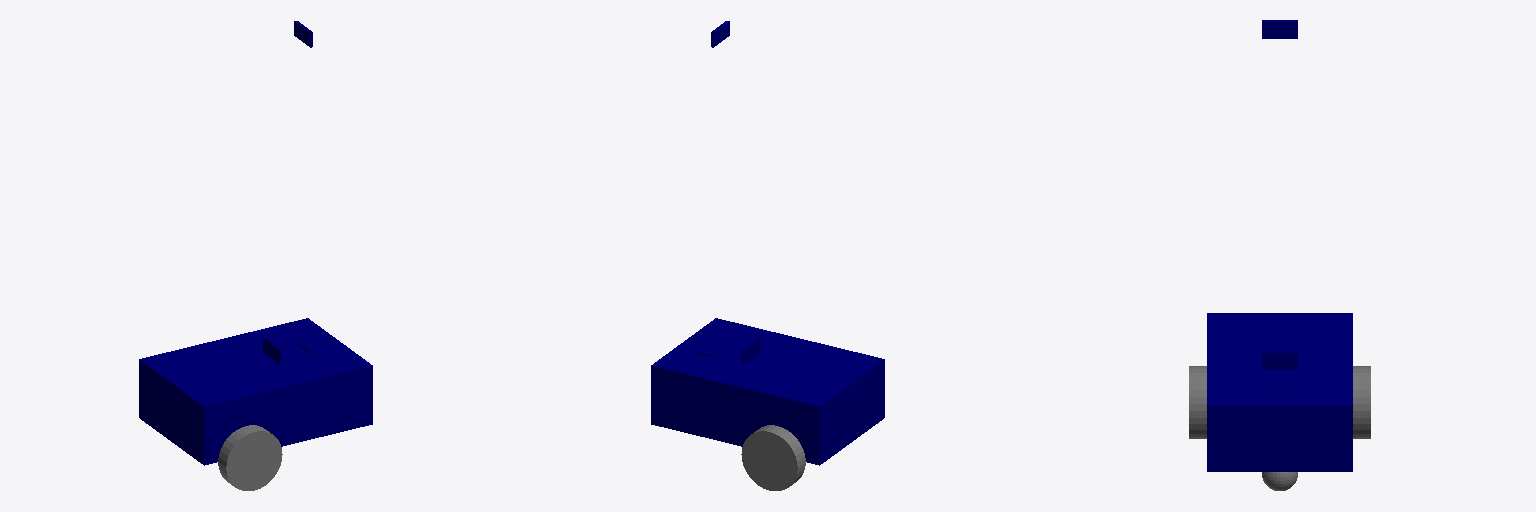
robot.urdf — medibot:
<?xml version="1.0" ?>
<!-- =================================================================================== -->
<!-- |    This document was autogenerated by xacro from medibot.urdf.xacro             | -->
<!-- |    EDITING THIS FILE BY HAND IS NOT RECOMMENDED                                 | -->
<!-- =================================================================================== -->
<robot name="medibot">
  <material name="blue">
    <color rgba="0 0 0.5 1"/>
  </material>
  <material name="grey">
    <color rgba="0.5 0.5 0.5 1"/>
  </material>
  <material name="yellow">
    <color rgba="1 1 0.5 1"/>
  </material>
  <material name="orange">
    <color rgba="1.0 0.65 0.0 1.0"/>
  </material>
  <material name="purple">
    <color rgba="0.5 0 1 1"/>
  </material>
  <link name="baymax_link">
    <visual>
      <geometry>
        <mesh filename="file://[local-path]/ros2_ws/src/medibot/urdf/Baymax.STL" scale="0.007 0.007 0.007"/>
      </geometry>
      <material name="white">
        <color rgba="1 1 1 1"/>
      </material>
      <origin rpy="0 0 1.57" xyz="-0.1 0 0.32500000000000007"/>
    </visual>
    <collision>
      <geometry>
        <mesh filename="file://[local-path]/ros2_ws/src/medibot/urdf/Baymax.STL" scale="0.007 0.007 0.007"/>
      </geometry>
      <origin rpy="0 0 1.57" xyz="-0.1 0 0.32500000000000007"/>
    </collision>
    <inertial>
      <mass value="1.0"/>
      <origin rpy="0 0 0" xyz="0 0 0"/>
      <inertia ixx="0.01" ixy="0.0" ixz="0.0" iyy="0.01" iyz="0.0" izz="0.01"/>
    </inertial>
  </link>
  <!-- <xacro:property name="base_length" value="0.6" />
    <xacro:property name="base_width" value="0.4" />
    <xacro:property name="base_height" value="0.2" />
    <xacro:property name="wheel_radius" value="0.1" />
    <xacro:property name="wheel_length" value="0.05" /> -->
  <link name="base_footprint"/>
  <link name="base_link">
    <visual>
      <geometry>
        <box size="0.6 0.4 0.2"/>
      </geometry>
      <origin rpy="0 0 0" xyz="0 0 0.1"/>
      <material name="blue"/>
    </visual>
    <collision>
      <geometry>
        <box size="0.6 0.4 0.2"/>
      </geometry>
      <origin rpy="0 0 0" xyz="0 0 0.1"/>
    </collision>
    <inertial>
      <origin rpy="0 0 0" xyz="0 0 0.1"/>
      <mass value="5.0"/>
      <inertia ixx="0.16666666666666669" ixy="0.0" ixz="0.0" iyy="0.21666666666666667" iyz="0.0" izz="0.08333333333333336"/>
    </inertial>
  </link>
  <link name="right_wheel_link">
    <visual>
      <geometry>
        <cylinder length="0.05" radius="0.1"/>
      </geometry>
      <origin rpy="1.5707963267948966 0 0" xyz="0 0 0"/>
      <material name="grey"/>
    </visual>
    <collision>
      <geometry>
        <cylinder length="0.05" radius="0.1"/>
      </geometry>
      <origin rpy="1.5707963267948966 0 0" xyz="0 0 0"/>
    </collision>
    <inertial>
      <origin rpy="1.5707963267948966 0 0" xyz="0 0 0"/>
      <mass value="1.0"/>
      <inertia ixx="0.002708333333333334" ixy="0.0" ixz="0.0" iyy="0.002708333333333334" iyz="0.0" izz="0.005000000000000001"/>
    </inertial>
  </link>
  <link name="left_wheel_link">
    <visual>
      <geometry>
        <cylinder length="0.05" radius="0.1"/>
      </geometry>
      <origin rpy="1.5707963267948966 0 0" xyz="0 0 0"/>
      <material name="grey"/>
    </visual>
    <collision>
      <geometry>
        <cylinder length="0.05" radius="0.1"/>
      </geometry>
      <origin rpy="1.5707963267948966 0 0" xyz="0 0 0"/>
    </collision>
    <inertial>
      <origin rpy="1.5707963267948966 0 0" xyz="0 0 0"/>
      <mass value="1.0"/>
      <inertia ixx="0.002708333333333334" ixy="0.0" ixz="0.0" iyy="0.002708333333333334" iyz="0.0" izz="0.005000000000000001"/>
    </inertial>
  </link>
  <link name="caster_wheel_link">
    <visual>
      <geometry>
        <sphere radius="0.05"/>
      </geometry>
      <origin rpy="0 0 0" xyz="0 0 0"/>
      <material name="grey"/>
    </visual>
    <collision>
      <geometry>
        <sphere radius="0.05"/>
      </geometry>
      <origin rpy="0 0 0" xyz="0 0 0"/>
    </collision>
    <inertial>
      <origin rpy="0 0 0" xyz="0 0 0"/>
      <mass value="0.5"/>
      <inertia ixx="0.0005000000000000001" ixy="0.0" ixz="0.0" iyy="0.0005000000000000001" iyz="0.0" izz="0.0005000000000000001"/>
    </inertial>
  </link>
  <joint name="base_joint" type="fixed">
    <parent link="base_footprint"/>
    <child link="base_link"/>
    <origin rpy="0 0 0" xyz="0 0 0.1"/>
  </joint>
  <joint name="wheel_right_joint" type="continuous">
    <parent link="base_link"/>
    <child link="right_wheel_link"/>
    <origin rpy="0 0 0" xyz="-0.15 -0.225 0"/>
    <axis xyz="0 1 0"/>
  </joint>
  <joint name="wheel_left_joint" type="continuous">
    <parent link="base_link"/>
    <child link="left_wheel_link"/>
    <origin rpy="0 0 0" xyz="-0.15 0.225 0"/>
    <axis xyz="0 1 0"/>
  </joint>
  <joint name="base_caster_wheel_joint" type="fixed">
    <parent link="base_link"/>
    <child link="caster_wheel_link"/>
    <origin rpy="0 0 0" xyz="0.19999999999999998 0 -0.05"/>
  </joint>
  <gazebo reference="base_link">
    <material>
            Gazebo/Blue
        </material>
  </gazebo>
  <gazebo reference="right_wheel_link">
    <material>
            Gazebo/Green
        </material>
  </gazebo>
  <gazebo reference="left_wheel_link">
    <material>
            Gazebo/Green
        </material>
  </gazebo>
  <gazebo reference="caster_wheel_link">
    <material>
            Gazebo/Red
        </material>
    <mu1 value="0.1"/>
    <mu2 value="0.1"/>
  </gazebo>
  <gazebo>
    <plugin filename="libgazebo_ros_diff_drive.so" name="diff_drive_controller">
      <update_rate>50</update_rate>
      <left_joint>wheel_left_joint</left_joint>
      <right_joint>wheel_right_joint</right_joint>
      <wheel_separation>0.45</wheel_separation>
      <wheel_diameter>0.2</wheel_diameter>
      <publish_odom>true</publish_odom>
      <publish_odom_tf>true</publish_odom_tf>
      <publish_wheel_tf>true</publish_wheel_tf>
      <odometry_topic>odom</odometry_topic>
      <odometry_frame>odom</odometry_frame>
      <robot_base_frame>base_footprint</robot_base_frame>
    </plugin>
  </gazebo>
  <!--camera link-->
  <link name="camera_link">
    <visual>
      <geometry>
        <box size="0.01 0.1 0.05"/>
      </geometry>
      <material name="blue"/>
    </visual>
    <collision>
      <geometry>
        <box size="0.01 0.1 0.05"/>
      </geometry>
    </collision>
    <inertial>
      <origin rpy="0 0 0" xyz="0 0 0"/>
      <mass value="0.1"/>
      <inertia ixx="2.166666666666667e-05" ixy="0.0" ixz="0.0" iyy="8.416666666666668e-05" iyz="0.0" izz="0.00010416666666666669"/>
    </inertial>
  </link>
  <!-- <joint name="head_camera_joint" type="fixed">
        <parent link="head_link"/>
        <child link="camera_link"/>
        <origin xyz="${head_radius} 0 0" rpy="0 0 0"/>
    </joint> -->
  <gazebo reference="camera_link">
    <material>
            Gazebo/Blue
        </material>
    <sensor name="camera_sensor" type="camera">
      <pose>0 0 0 0 0 0</pose>
      <visualize>true</visualize>
      <update_rate>10.0</update_rate>
      <plugin filename="libgazebo_ros_camera.so" name="camera_controller">
        <frame_name>camera_link</frame_name>
      </plugin>
    </sensor>
  </gazebo>
  <!--camera link-->
  <link name="base_scan">
    <visual>
      <geometry>
        <box size="0.01 0.1 0.05"/>
      </geometry>
      <material name="blue"/>
    </visual>
    <collision>
      <geometry>
        <box size="0.01 0.1 0.05"/>
      </geometry>
    </collision>
    <inertial>
      <origin rpy="0 1.57 0" xyz="0 0 0"/>
      <mass value="0.1"/>
      <inertia ixx="2.166666666666667e-05" ixy="0.0" ixz="0.0" iyy="8.416666666666668e-05" iyz="0.0" izz="0.00010416666666666669"/>
    </inertial>
  </link>
  <!-- <joint name="head_lidar_joint" type="fixed">
        <parent link="head_link"/>
        <child link="lidar_link"/>
        <origin xyz="0 0 ${head_radius}" rpy="0 0 0"/>
    </joint> -->
  <gazebo reference="base_scan">
    <sensor name="lidar_sensor" type="ray">
      <pose>0 0 0 0 0 0</pose>
      <visualize>true</visualize>
      <!-- This enables visualization of the scan in Gazebo -->
      <update_rate>5</update_rate>
      <!-- Frequency of the scan -->
      <ray>
        <scan>
          <horizontal>
            <samples>720</samples>
            <!-- Number of scan points (angular resolution) -->
            <resolution>1</resolution>
            <min_angle>0</min_angle>
            <!-- Start scanning from -90 degrees -->
            <max_angle>6.28</max_angle>
            <!-- End scanning at +90 degrees -->
          </horizontal>
        </scan>
        <range>
          <min>0.2</min>
          <!-- Minimum range of the LiDAR -->
          <max>30.0</max>
          <!-- Maximum range of the LiDAR -->
        </range>
      </ray>
      <plugin filename="libgazebo_ros_ray_sensor.so" name="turtlebot3_laserscan">
        <ros>
          <remapping>/turtlebot3_laserscan/out:=/scan</remapping>
        </ros>
        <output_type>sensor_msgs/LaserScan</output_type>
        <frame_name>base_scan</frame_name>
        <topic>/scan</topic>
      </plugin>
    </sensor>
  </gazebo>
  <!--camera link-->
  <link name="imu_link">
    <visual>
      <geometry>
        <box size="0.01 0.1 0.05"/>
      </geometry>
      <material name="blue"/>
    </visual>
    <collision>
      <geometry>
        <box size="0.01 0.1 0.05"/>
      </geometry>
    </collision>
    <inertial>
      <origin rpy="0 1.57 0" xyz="0 0 0"/>
      <mass value="0.1"/>
      <inertia ixx="2.166666666666667e-05" ixy="0.0" ixz="0.0" iyy="8.416666666666668e-05" iyz="0.0" izz="0.00010416666666666669"/>
    </inertial>
  </link>
  <joint name="base_imu_joint" type="fixed">
    <parent link="base_link"/>
    <child link="imu_link"/>
    <origin rpy="0 1.57 0" xyz="0.19999999999999998 0 0.2"/>
  </joint>
  <gazebo reference="imu_link">
    <sensor name="imu_sensor" type="imu">
      <!-- ensure the sensor is active (required) -->
      <always_on>true</always_on>
      <update_rate>30</update_rate>
      <plugin filename="libgazebo_ros_imu_sensor.so" name="my_imu_plugin">
        <ros>
          <remapping>~/out:=imu</remapping>
        </ros>
      </plugin>
    </sensor>
  </gazebo>
  <joint name="base_lider_joint" type="fixed">
    <parent link="base_link"/>
    <child link="base_scan"/>
    <origin rpy="0 0 0" xyz="0.06 0 0.225"/>
  </joint>
  <joint name="baymax_camera_joint" type="fixed">
    <parent link="baymax_link"/>
    <child link="camera_link"/>
    <origin rpy="0 0 0" xyz="0.05 0 0.8"/>
  </joint>
  <!-- <joint name="lider_upper_joint" type="fixed">
        <parent link="base_scan" />
        <child link="body_base_link" />
        <origin xyz="${base_length/10} 0 ${base_height+camera_height}" rpy="0 0 0"/>
    </joint> -->
  <joint name="lider_baymax_joint" type="fixed">
    <parent link="base_scan"/>
    <child link="baymax_link"/>
    <origin rpy="0 0 0" xyz="0.06 0 0.25"/>
  </joint>
</robot>

--- What the picture shows (computed from the rendered views, not written in the file) ---
Views: 3 orthographic renders of the robot side by side, from view 1: azimuth 30°, elevation 25°; view 2: azimuth 150°, elevation 25°; view 3: azimuth 270°, elevation 25°.
Robot: medibot — 9 links, 8 joints (2 continuous, 6 fixed); root link base_footprint; default pose: every joint at zero.
Links seen in each view (by area): view 1: base_link, right_wheel_link; view 2: base_link, left_wheel_link; view 3: base_link, right_wheel_link, left_wheel_link, camera_link, base_scan, caster_wheel_link.
Boxes of the visible links, <box> form: base_link: <box>139,318,372,465</box>; right_wheel_link: <box>218,425,282,490</box>; base_link: <box>651,318,884,465</box>; left_wheel_link: <box>741,425,805,490</box>; base_link: <box>1207,313,1352,471</box>; right_wheel_link: <box>1189,366,1206,438</box>; left_wheel_link: <box>1353,366,1370,438</box>; camera_link: <box>1262,20,1297,38</box>; base_scan: <box>1262,351,1297,369</box>; caster_wheel_link: <box>1262,472,1297,490</box>.
Bounding box of the posed robot: 0.6 × 0.5 × 1.4 m (x, y, z).
Geometry: only primitive shapes (box / cylinder / sphere) drawn; not drawn: 1 mesh visual (reference in a form the renderer does not follow).
